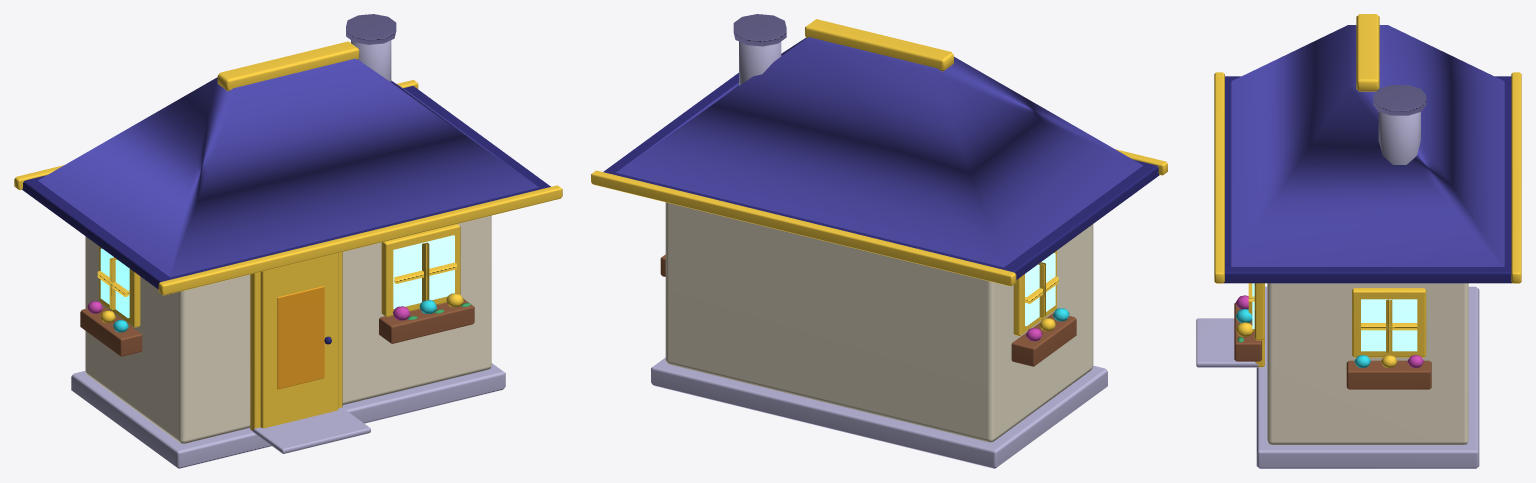
Rendered from house_b.glb.
3 renders of one model, left to right at view 1: azimuth 30°, elevation 25°; view 2: azimuth 150°, elevation 25°; view 3: azimuth 270°, elevation 25°, orthographic. The views are drawn at different scales.
Visible parts, largest first — view 1: House; view 2: House; view 3: House.
Boxes of the visible parts, left/top/right/bottom form: House: left=14, top=14, right=562, bottom=468; House: left=591, top=14, right=1167, bottom=468; House: left=1196, top=14, right=1521, bottom=468.
Bounding box in the file's own units: 4.5 × 3.55 × 3.07.
